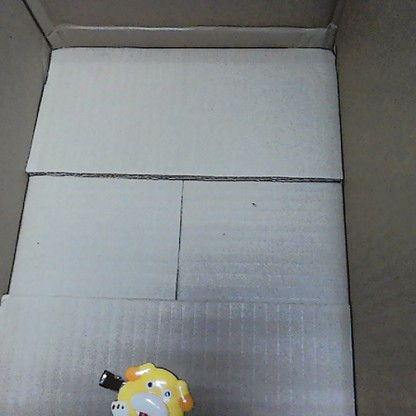dogclip: (97, 361, 195, 414)
